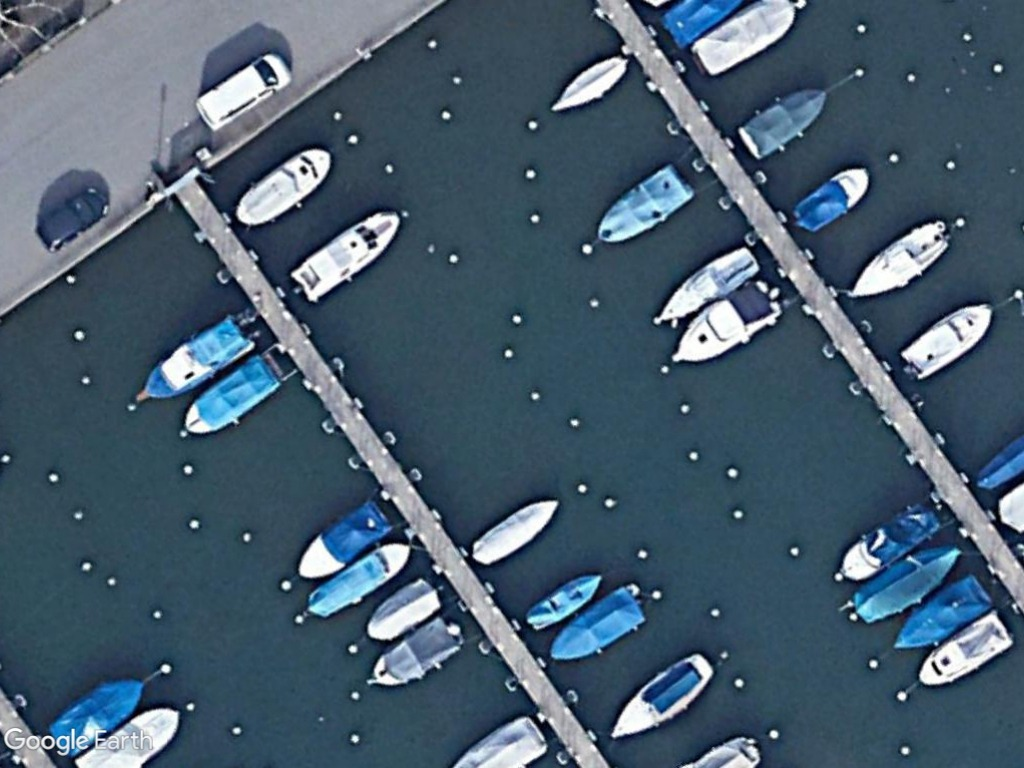boat: (291, 207, 401, 305), (847, 541, 964, 625), (607, 652, 718, 740), (669, 279, 780, 366), (140, 317, 254, 399), (832, 502, 943, 583), (652, 244, 759, 328), (181, 352, 286, 437), (232, 142, 335, 228), (303, 540, 414, 619), (693, 0, 802, 78), (896, 297, 996, 382), (848, 221, 953, 301), (50, 674, 150, 757), (593, 165, 693, 247), (293, 499, 393, 580), (911, 610, 1011, 688), (889, 574, 990, 651), (549, 587, 646, 664), (466, 494, 561, 570), (737, 83, 831, 159), (370, 617, 463, 689), (791, 162, 871, 232), (365, 576, 446, 644), (547, 53, 632, 117), (523, 570, 604, 629)
van: (193, 48, 290, 132)
